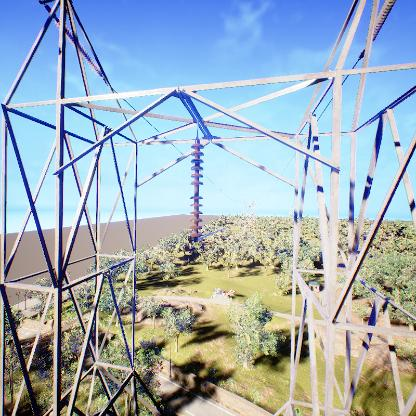insulator: (189, 141, 207, 239)
